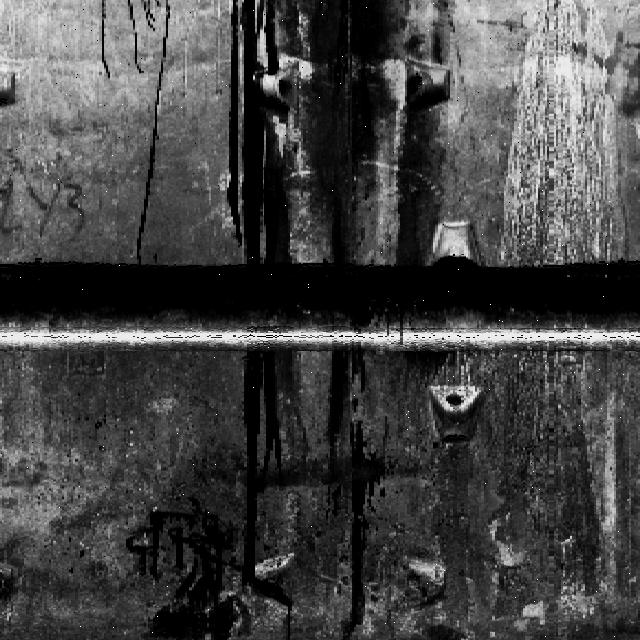leakage: (208, 1, 478, 277), (232, 351, 418, 636)
